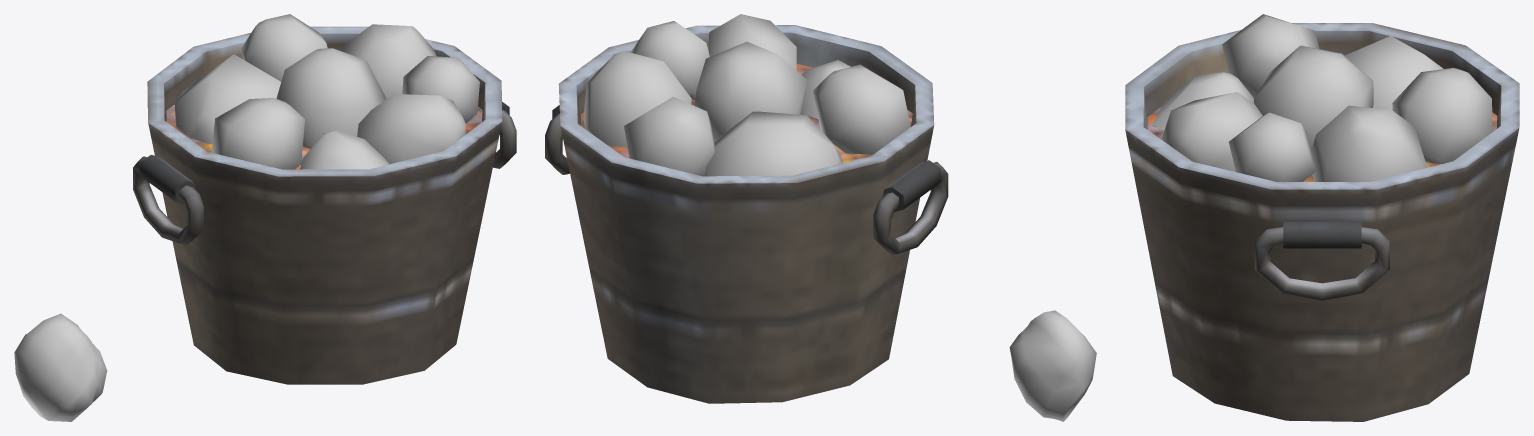
Rendered from GorillaTagLavaRockBucket.fbx.
3 renders of one model, left to right at view 1: azimuth 30°, elevation 25°; view 2: azimuth 150°, elevation 25°; view 3: azimuth 270°, elevation 25°, orthographic. The views are drawn at different scales.
Visible parts, largest first — view 1: Bucket, LavaRocks, LavaRock, LavaBase; view 2: Bucket, LavaRocks, LavaRock, LavaBase; view 3: Bucket, LavaRocks, LavaBase.
Boxes of the visible parts, x1,y1,x2,y2 form: Bucket: [133, 26, 516, 384]; LavaRocks: [174, 14, 479, 169]; LavaRock: [14, 313, 107, 421]; LavaBase: [166, 105, 482, 169]; Bucket: [545, 25, 948, 403]; LavaRocks: [583, 14, 910, 176]; LavaRock: [1009, 310, 1096, 421]; LavaBase: [580, 64, 912, 163]; Bucket: [1125, 23, 1519, 421]; LavaRocks: [1152, 14, 1492, 181]; LavaBase: [1147, 106, 1497, 181].
Bounding box in the file's own units: 90.92 × 51.73 × 58.28.
